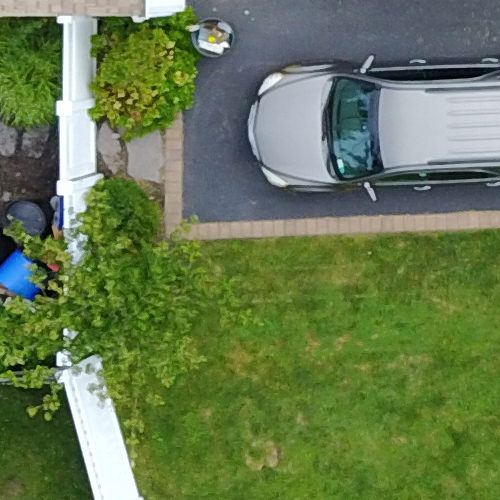container: (183, 15, 245, 69)
trash bin: (5, 197, 65, 255)
